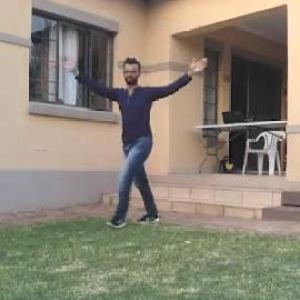takeoff: (61, 55, 215, 229)
